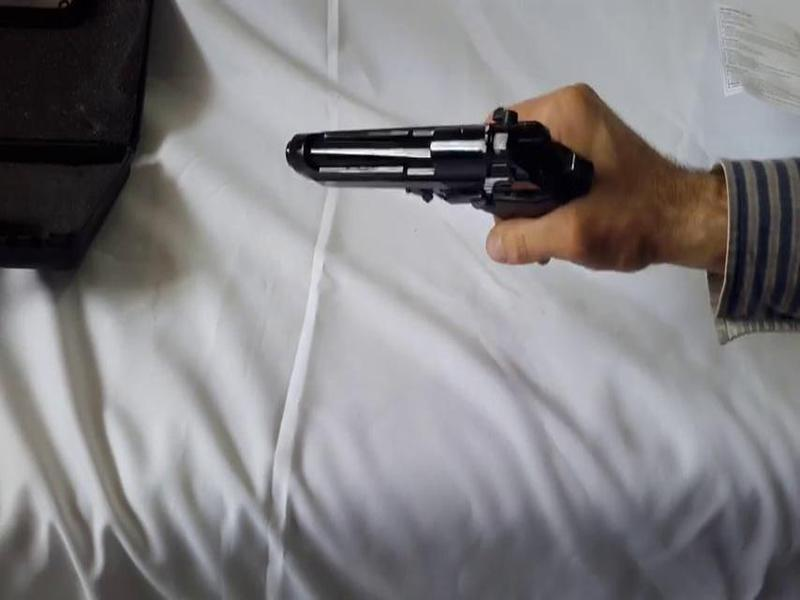Pistola: (257, 89, 640, 295)
